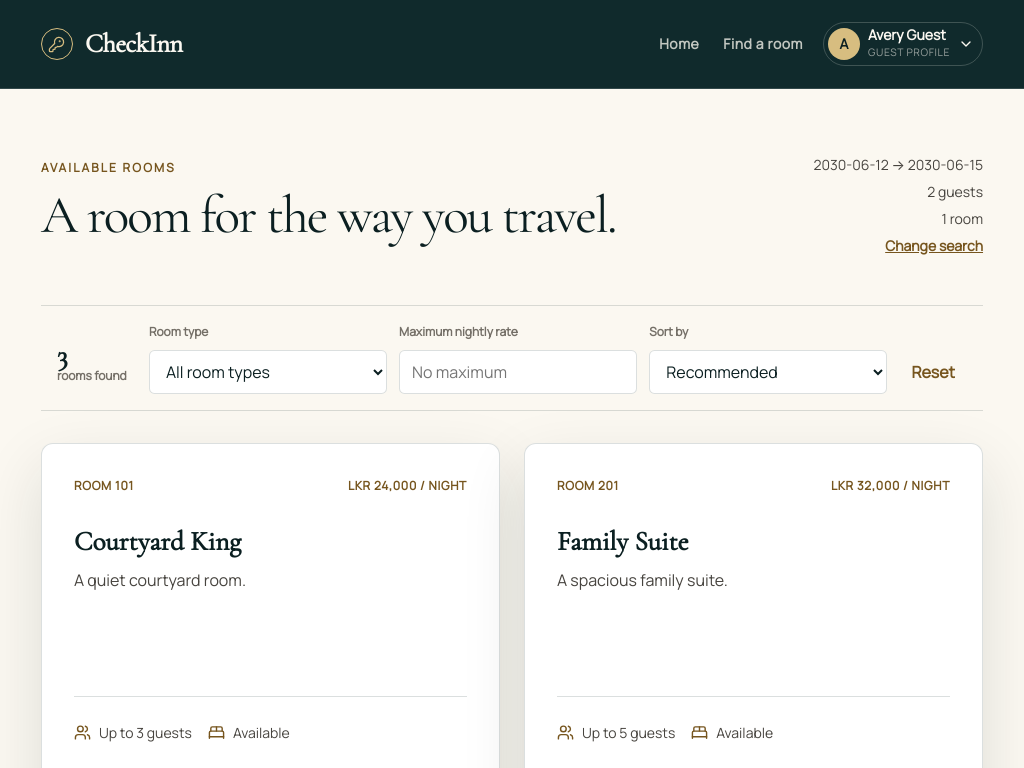
room filtering and sorting › defaults invalid filter parameters and offers a filtered-empty reset
Expected: the heading "Family Suite" is shown, [557,525,689,558]
Expected: the dropdown labelled "Room type" shows "All room types", [149,350,387,394]
In the number field labelled "Maximum nightly rate": (518, 372) [399,350,637,394], type "100"
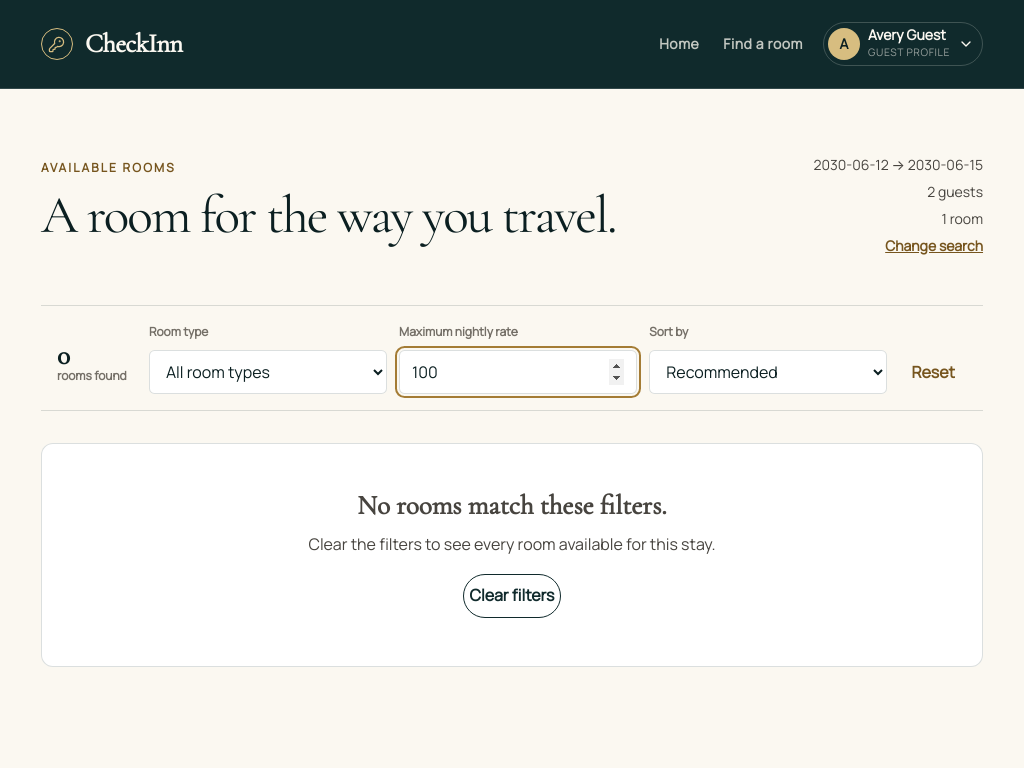
Expected: the heading "No rooms match these filters." is shown, [357,489,667,522]
Click the button "Clear filters": (512, 596) [462,574,561,618]
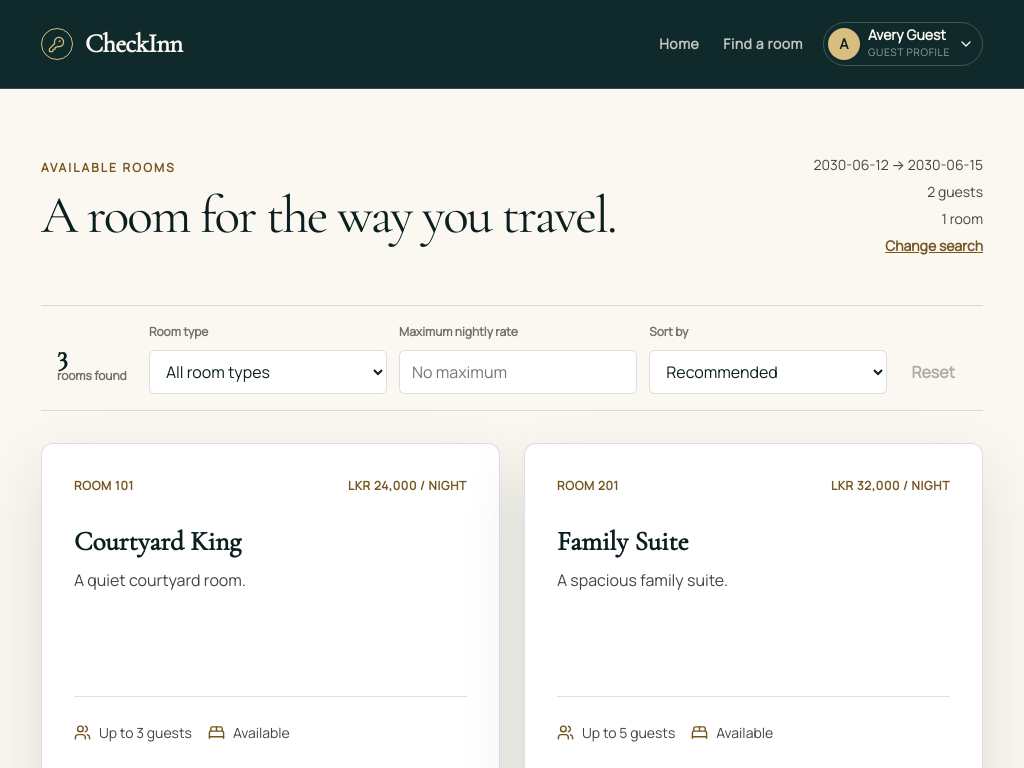
Expected: the heading "Family Suite" is shown, [557,525,689,558]
